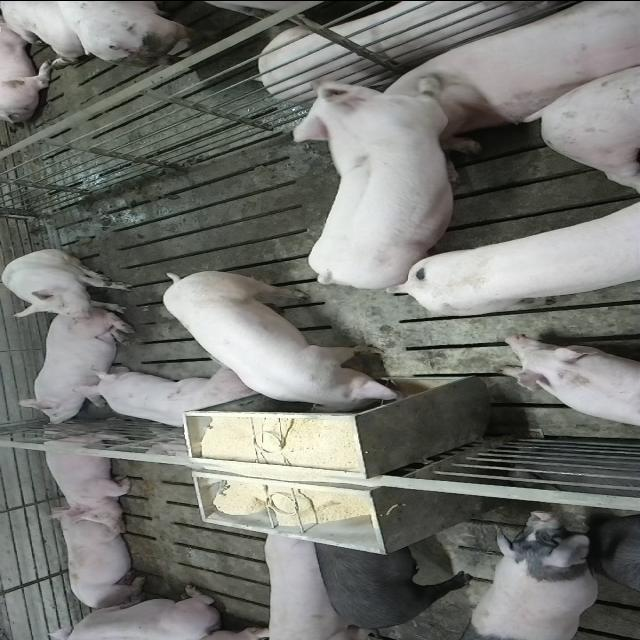Feeding: (161, 272, 411, 420)
Sitting: (2, 248, 137, 320)
Standing: (295, 71, 497, 289), (390, 205, 640, 321), (466, 508, 606, 637), (306, 534, 470, 630), (266, 522, 356, 636)
Sternal_lying: (12, 314, 136, 425), (500, 335, 640, 431), (84, 368, 260, 431), (38, 583, 228, 637), (52, 509, 148, 611), (36, 425, 134, 521)
